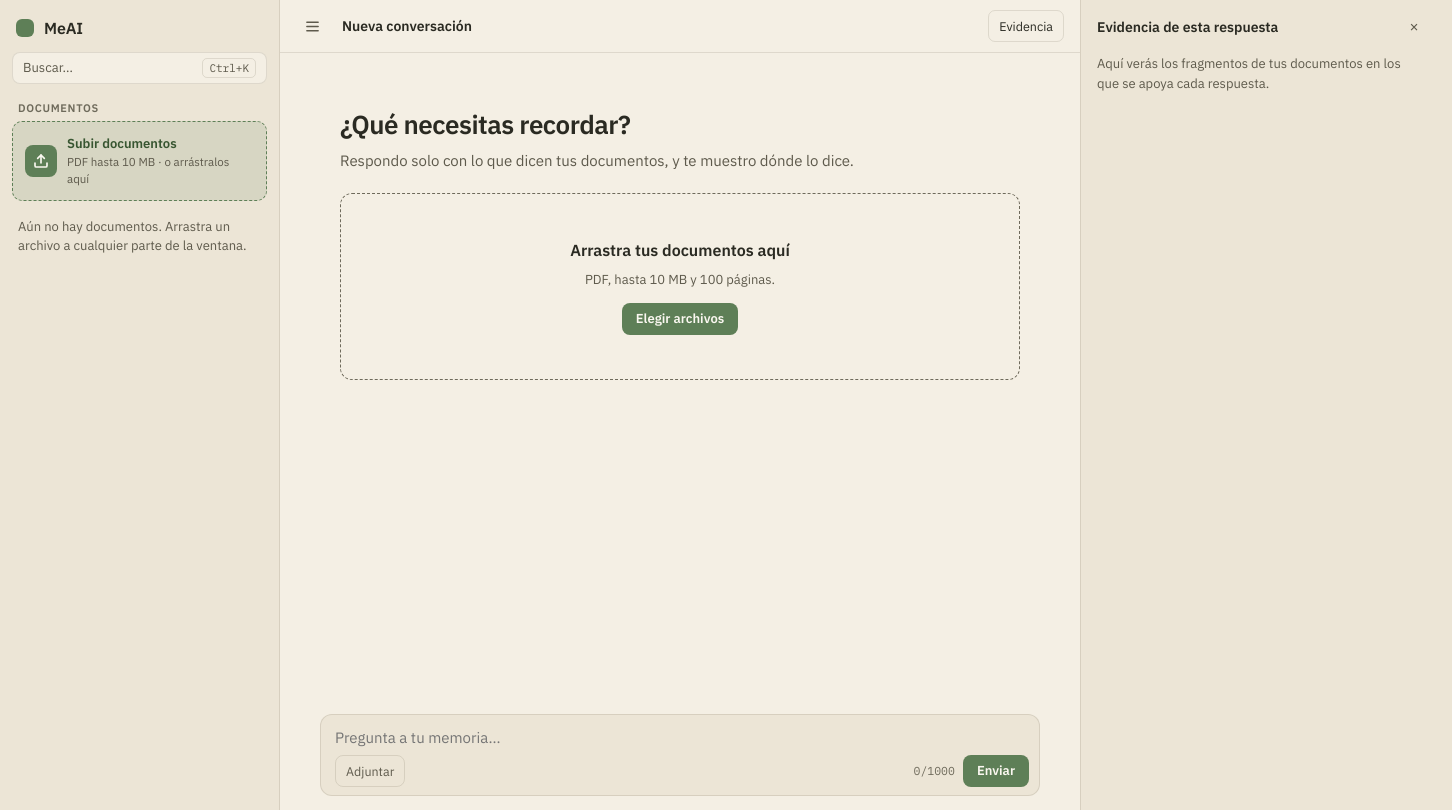
Test: re-enables input and submit button after the answer fails (RF-5.4, CL-11)
Type "Pregunta que falla" into the text box named "Escribe tu pregunta".
click(682, 738); type("Pregunta que falla")  # box top-left (335, 724), bottom-right (1029, 751)
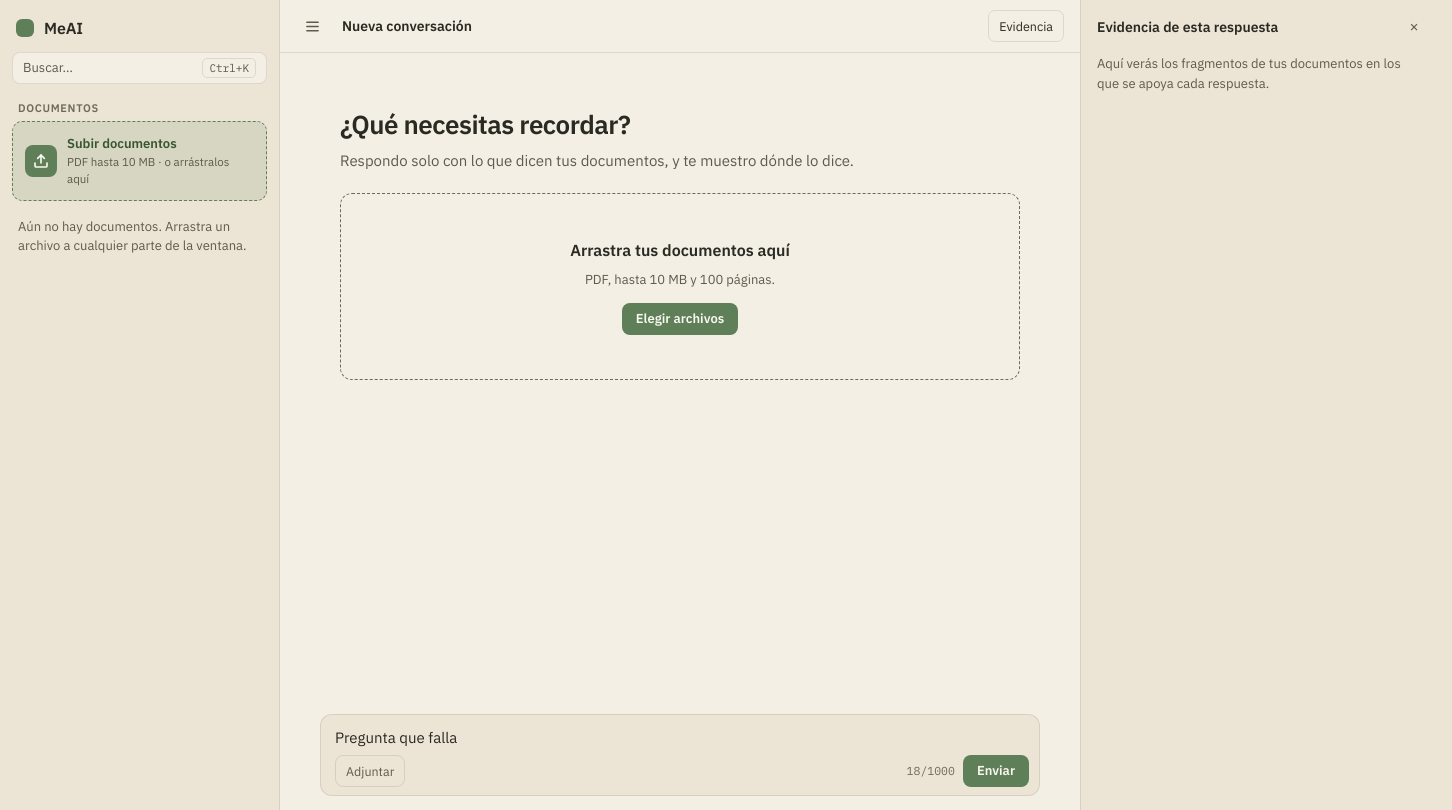
Click the button with aria-label "Enviar pregunta".
click(996, 771)  # box top-left (963, 755), bottom-right (1029, 787)
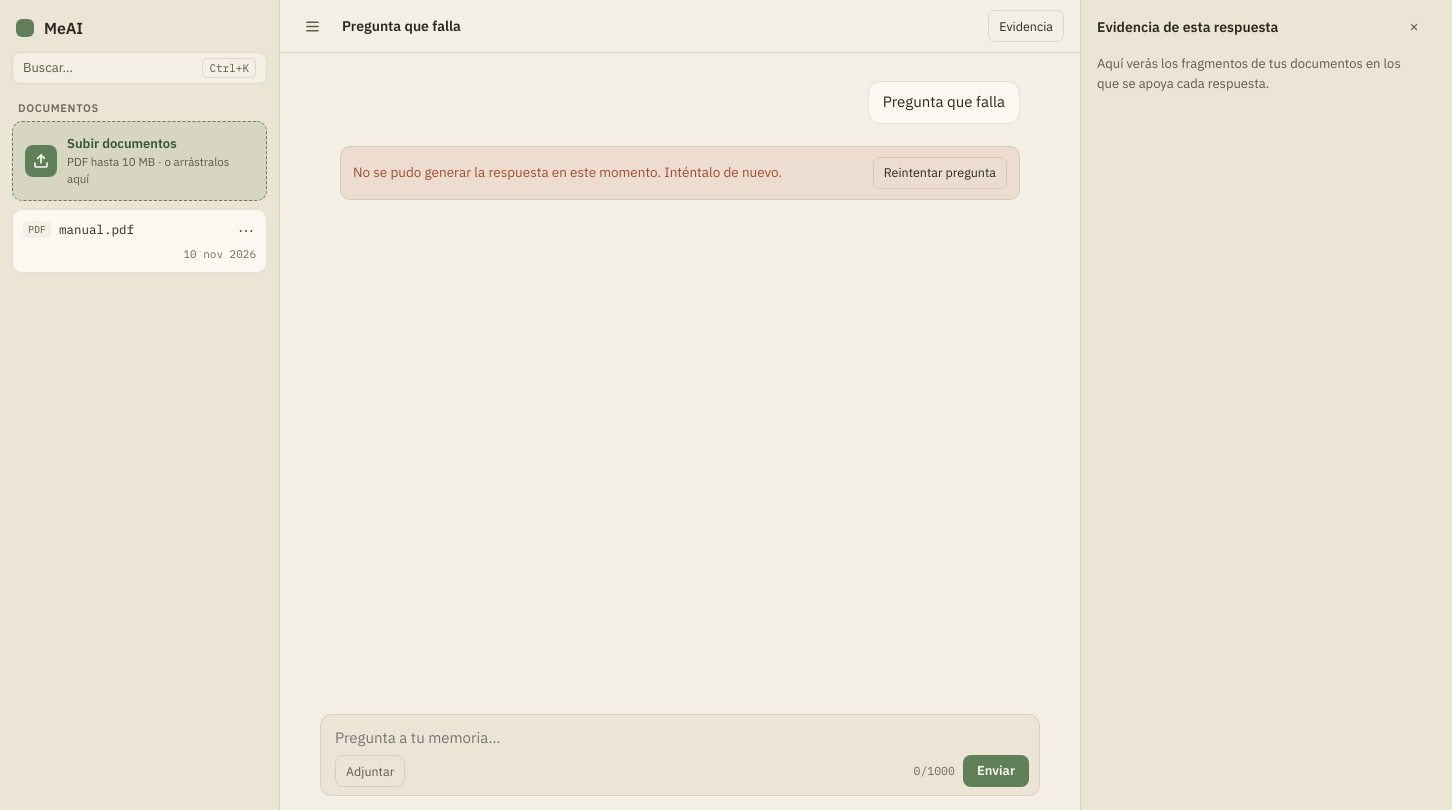
Expected: the text box named "Escribe tu pregunta" is enabled, top-left (335, 724), bottom-right (1029, 751)
Now the message is shown, box top-left (340, 146), bottom-right (1020, 200)
